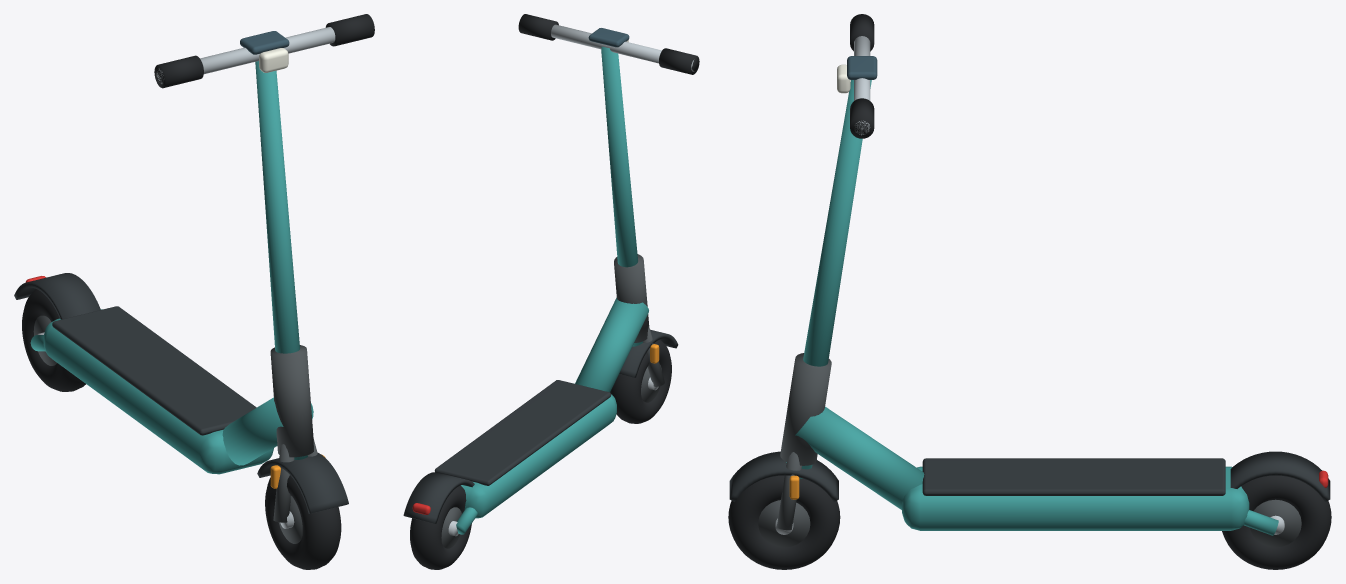
Rendered from E-Scooter.glb.
3 renders of one model, left to right at view 1: azimuth 30°, elevation 25°; view 2: azimuth 150°, elevation 25°; view 3: azimuth 270°, elevation 25°, orthographic. The views are drawn at different scales.
Visible parts, largest first — view 1: E-Scooter_Petrol, E-Scooter_Kunststoff anthrazit, E-Scooter_Pulverbeschichteter Stahl, Rad_Vorn_Reifen, E-Scooter_Reifengummi, Rad_Hinten_Reifen, Lenker, Display, Frontlicht, Rad_Vorn_Felge; view 2: E-Scooter_Petrol, E-Scooter_Kunststoff anthrazit, Rad_Hinten_Reifen, Rad_Vorn_Reifen, E-Scooter_Pulverbeschichteter Stahl, E-Scooter_Reifengummi, Lenker, Display, Rad_Hinten_Felge; view 3: E-Scooter_Petrol, E-Scooter_Kunststoff anthrazit, Rad_Vorn_Reifen, Rad_Hinten_Reifen, E-Scooter_Pulverbeschichteter Stahl, E-Scooter_Reifengummi, Rad_Vorn_Felge, Rad_Hinten_Felge, Lenker.
Part boxes in pixels (x1,y1,x2,y2): E-Scooter_Petrol: (30, 61, 313, 474); E-Scooter_Kunststoff anthrazit: (14, 273, 348, 513); E-Scooter_Pulverbeschichteter Stahl: (270, 345, 317, 522); Rad_Vorn_Reifen: (265, 475, 341, 569); E-Scooter_Reifengummi: (154, 14, 374, 88); Rad_Hinten_Reifen: (22, 289, 85, 391); Lenker: (156, 27, 335, 83); Display: (240, 31, 289, 54); Frontlicht: (259, 48, 288, 72); Rad_Vorn_Felge: (278, 496, 302, 543); E-Scooter_Petrol: (456, 46, 648, 534); E-Scooter_Kunststoff anthrazit: (403, 329, 678, 523); Rad_Hinten_Reifen: (410, 485, 471, 569); Rad_Vorn_Reifen: (610, 339, 671, 423); E-Scooter_Pulverbeschichteter Stahl: (614, 254, 664, 386); E-Scooter_Reifengummi: (518, 14, 699, 74); Lenker: (551, 24, 694, 71); Display: (588, 28, 629, 47); Rad_Hinten_Felge: (441, 507, 461, 548); E-Scooter_Petrol: (786, 80, 1278, 535); E-Scooter_Kunststoff anthrazit: (729, 451, 1330, 501); Rad_Vorn_Reifen: (728, 475, 840, 569); Rad_Hinten_Reifen: (1222, 475, 1331, 569); E-Scooter_Pulverbeschichteter Stahl: (776, 353, 831, 530); E-Scooter_Reifengummi: (850, 14, 874, 138); Rad_Vorn_Felge: (758, 500, 810, 547); Rad_Hinten_Felge: (1250, 499, 1301, 547); Lenker: (854, 36, 870, 135).
Bounding box in the file's own units: 0.5 × 1.14 × 1.24.
